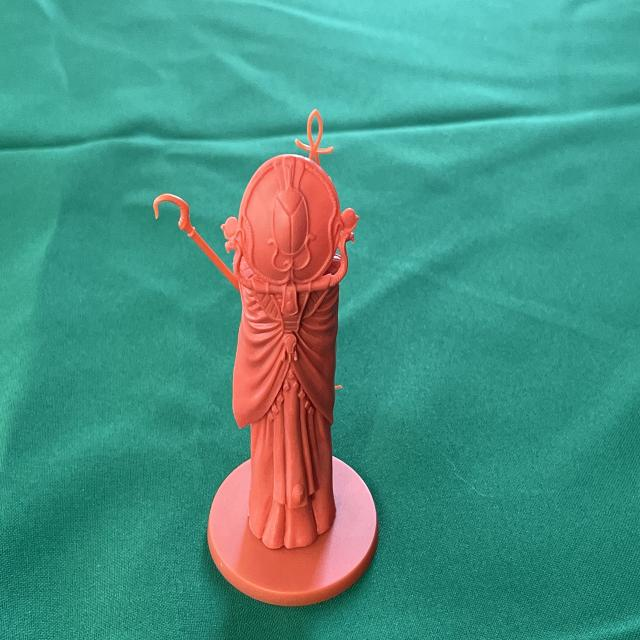amon: (150, 105, 382, 614)
